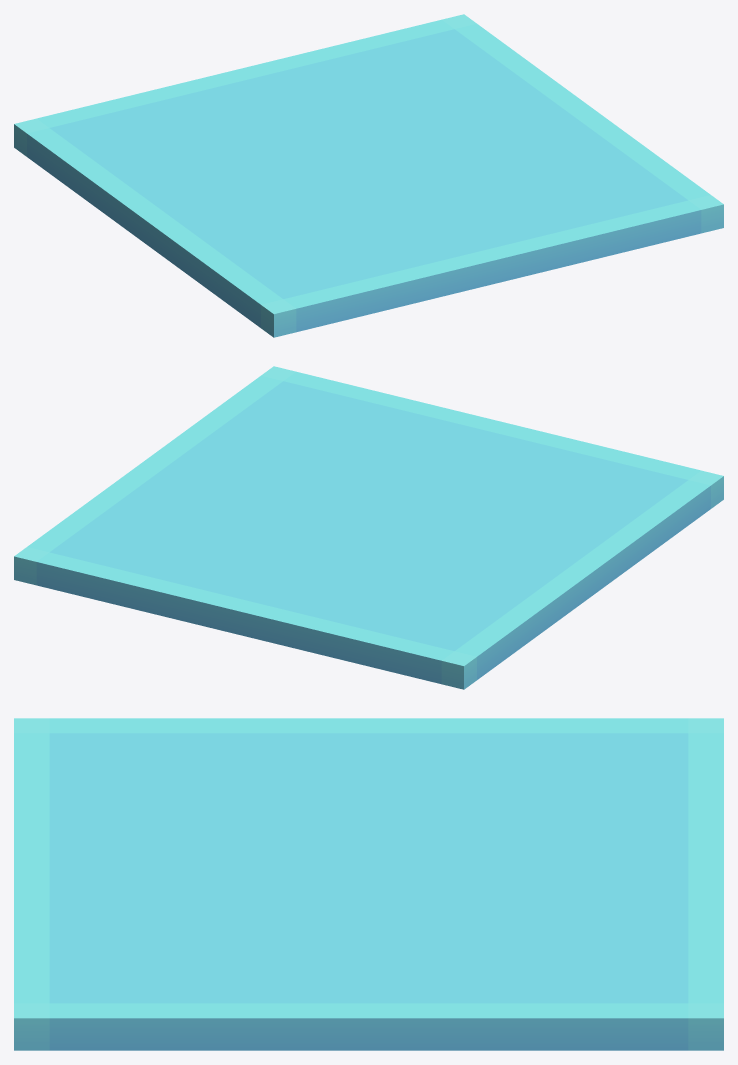
The model's file is water.obj.
The picture shows the model from 3 angles, top to bottom: view 1: azimuth 30°, elevation 25°; view 2: azimuth 150°, elevation 25°; view 3: azimuth 270°, elevation 25°; orthographic projection. The views are drawn at different scales.
Visible parts, largest first — view 1: base; view 2: base; view 3: base.
Boxes of the visible parts, box(x1,y1,x2,y2) form: base: box(14, 14, 723, 337); base: box(14, 366, 723, 689); base: box(14, 718, 723, 1050).
Size of the model in its own units: 2 by 0.1 by 2.
1 material, 1 textured.
